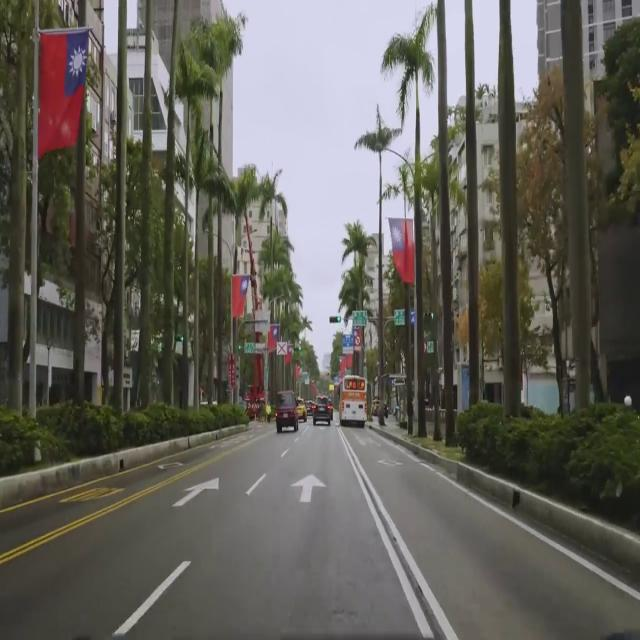green light: (329, 315, 341, 323)
